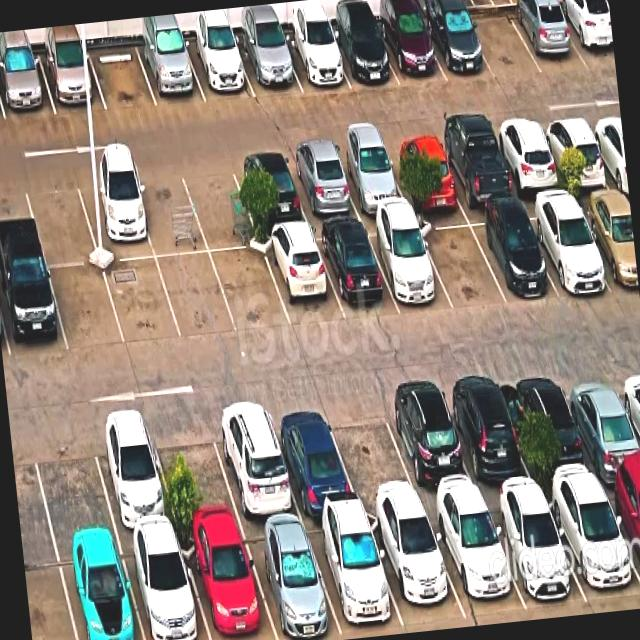car: (563, 494, 637, 615), (383, 519, 458, 634), (320, 522, 391, 640), (445, 509, 516, 627), (216, 429, 292, 539), (256, 529, 330, 640), (507, 501, 574, 621), (99, 442, 173, 548), (189, 536, 264, 640), (393, 401, 464, 508), (286, 425, 350, 536), (516, 378, 580, 488), (454, 393, 520, 498), (61, 553, 139, 640), (543, 199, 607, 305), (573, 380, 638, 482), (130, 547, 200, 640), (379, 218, 444, 316), (81, 164, 148, 257), (487, 206, 549, 306), (450, 124, 510, 222), (328, 220, 387, 319), (140, 12, 198, 112), (396, 123, 454, 222), (268, 232, 331, 322), (236, 149, 300, 236), (501, 121, 558, 218), (550, 114, 607, 210), (0, 269, 61, 356), (190, 8, 246, 101), (334, 0, 391, 90), (240, 2, 294, 96), (288, 0, 341, 94), (342, 138, 398, 224), (42, 23, 96, 111), (383, 0, 437, 85), (295, 144, 349, 225), (430, 0, 482, 80), (0, 28, 45, 118), (513, 0, 569, 64)
free: (36, 438, 112, 555), (162, 433, 232, 541), (337, 417, 410, 518), (428, 220, 496, 312), (140, 162, 200, 258), (107, 252, 170, 342), (91, 18, 150, 114), (54, 265, 118, 352), (28, 183, 91, 267), (194, 156, 252, 247), (216, 243, 276, 329), (163, 249, 222, 330), (471, 0, 528, 74)
